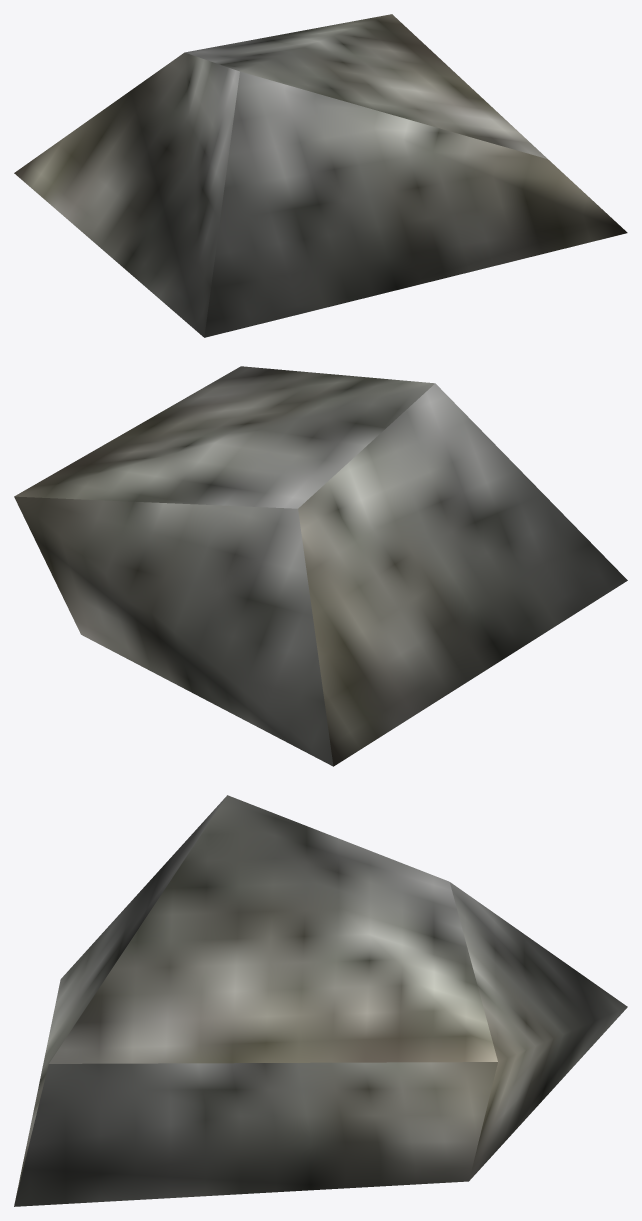
Rendered from psx_industrial_pack_rock.glb.
The picture shows the model from 3 angles, top to bottom: view 1: azimuth 30°, elevation 25°; view 2: azimuth 150°, elevation 25°; view 3: azimuth 270°, elevation 25°; orthographic projection. The views are drawn at different scales.
Visible parts, largest first — view 1: Rock; view 2: Rock; view 3: Rock.
Boxes of the visible parts, x1,y1,x2,y2 form: Rock: (14, 14, 627, 337); Rock: (14, 366, 627, 766); Rock: (14, 795, 627, 1206).
Bounding box in the file's own units: 0.2021 × 0.0952 × 0.2079.
1 material, 1 textured.
